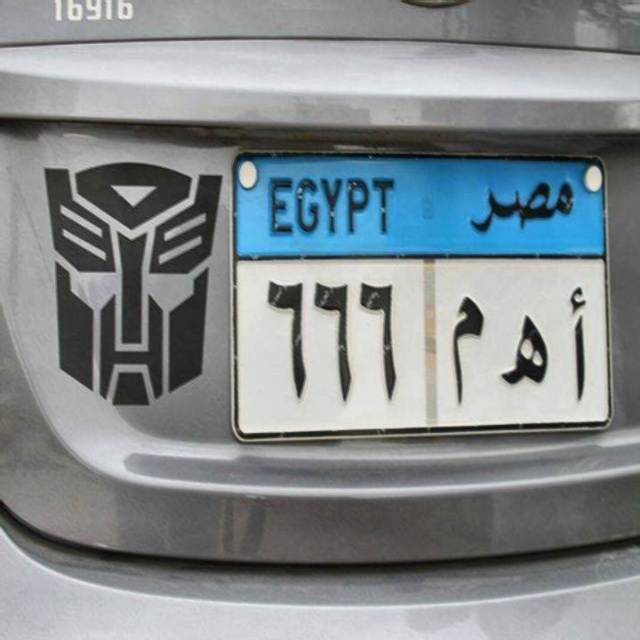License Plate: (226, 147, 615, 445)
